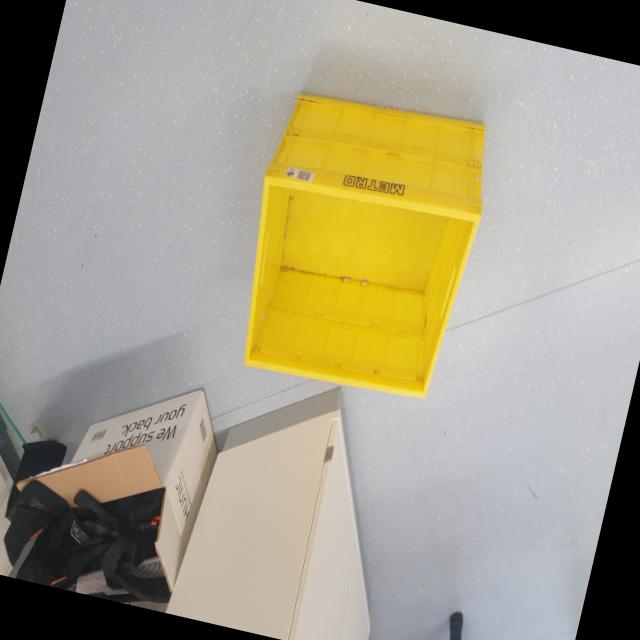box: (217, 77, 506, 412)
